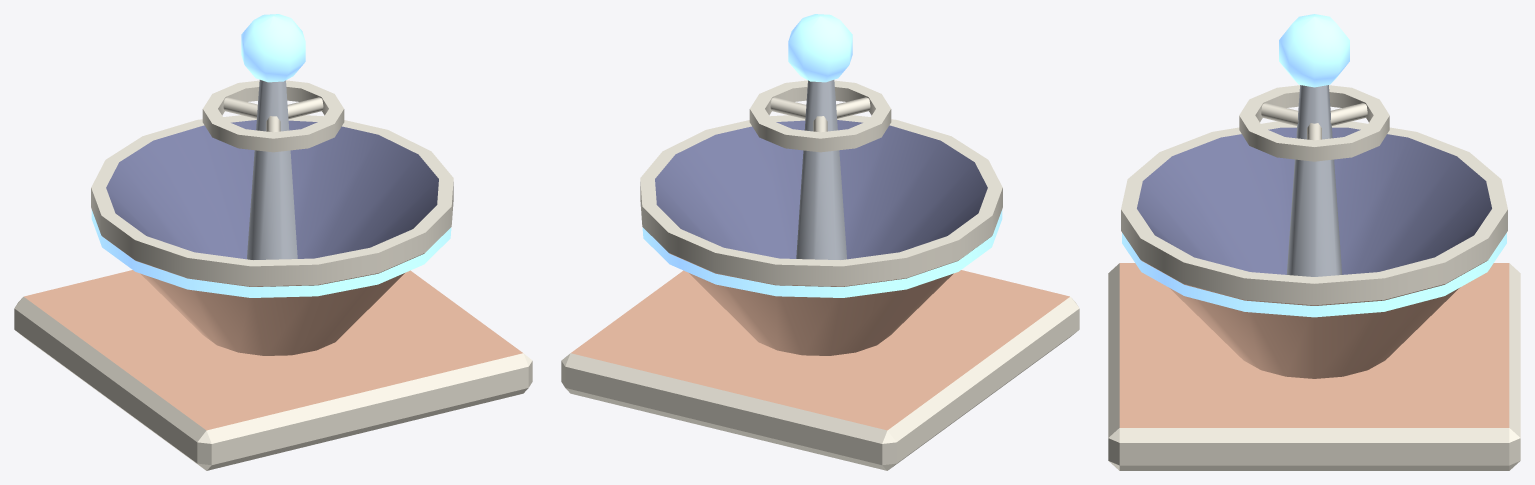
The model's file is R4X_ScannerPulse_LOD1.fbx.
3 views of the same model, side by side, from view 1: azimuth 30°, elevation 25°; view 2: azimuth 150°, elevation 25°; view 3: azimuth 270°, elevation 25° (orthographic). The views are drawn at different scales.
Visible parts, largest first — view 1: R4X_ScannerPulse_LOD1; view 2: R4X_ScannerPulse_LOD1; view 3: R4X_ScannerPulse_LOD1.
Boxes of the visible parts, bbox=[...] form: R4X_ScannerPulse_LOD1: bbox=[14, 14, 532, 470]; R4X_ScannerPulse_LOD1: bbox=[561, 14, 1079, 470]; R4X_ScannerPulse_LOD1: bbox=[1108, 14, 1520, 470].
Size of the model in its own units: 0.52 by 0.5172 by 0.52.
